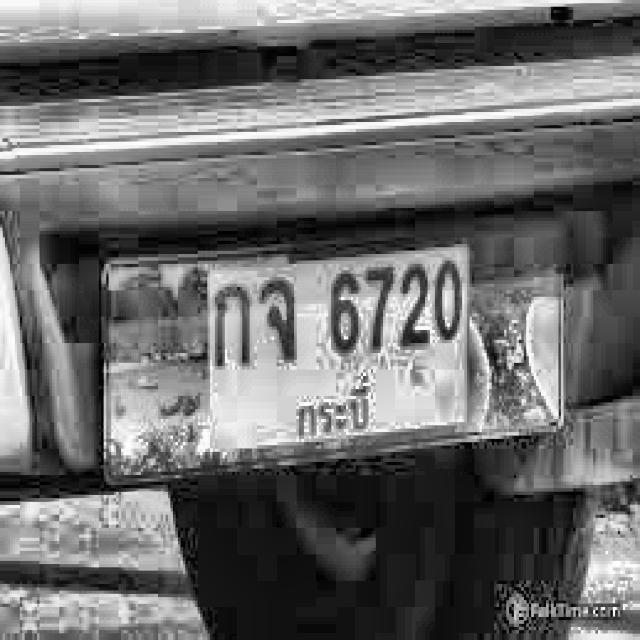license-plate: (59, 194, 595, 518)
